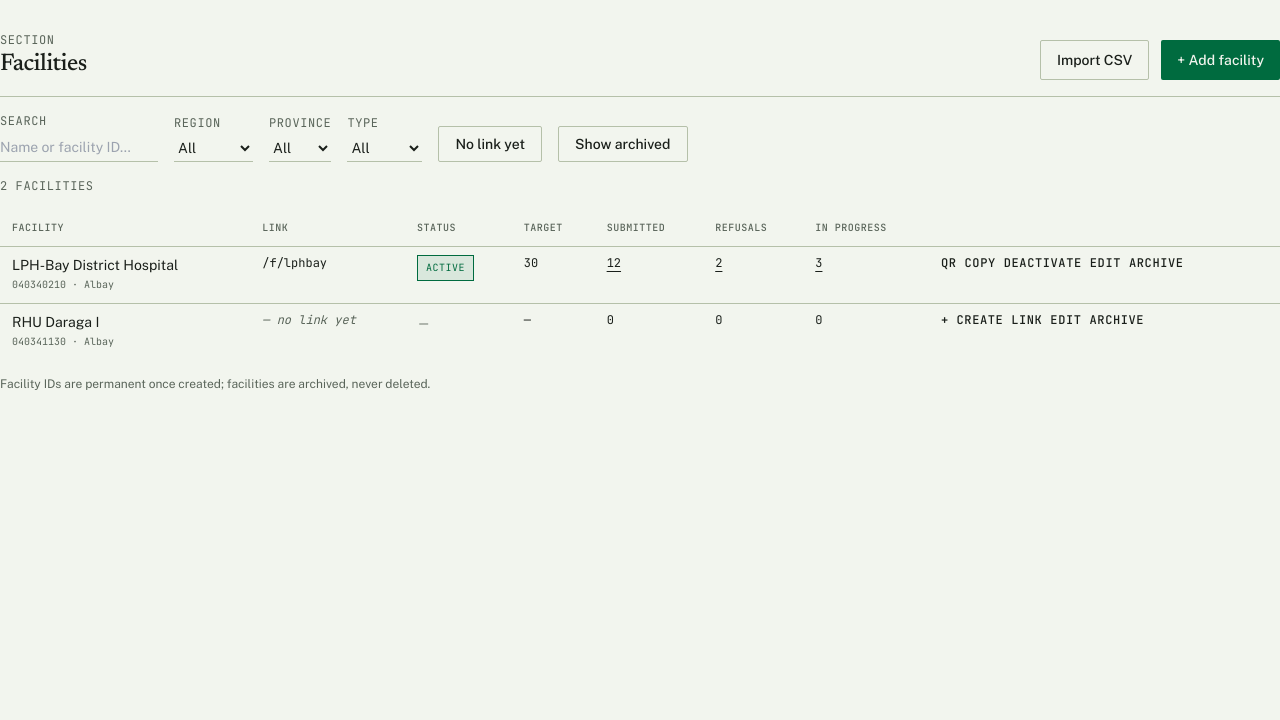
<FacilitiesPage /> › create button opens the dialog with the row facility read-only
Click the button with test id "facility-create-040341130".
click(992, 320)  # box [941,312,1042,328]
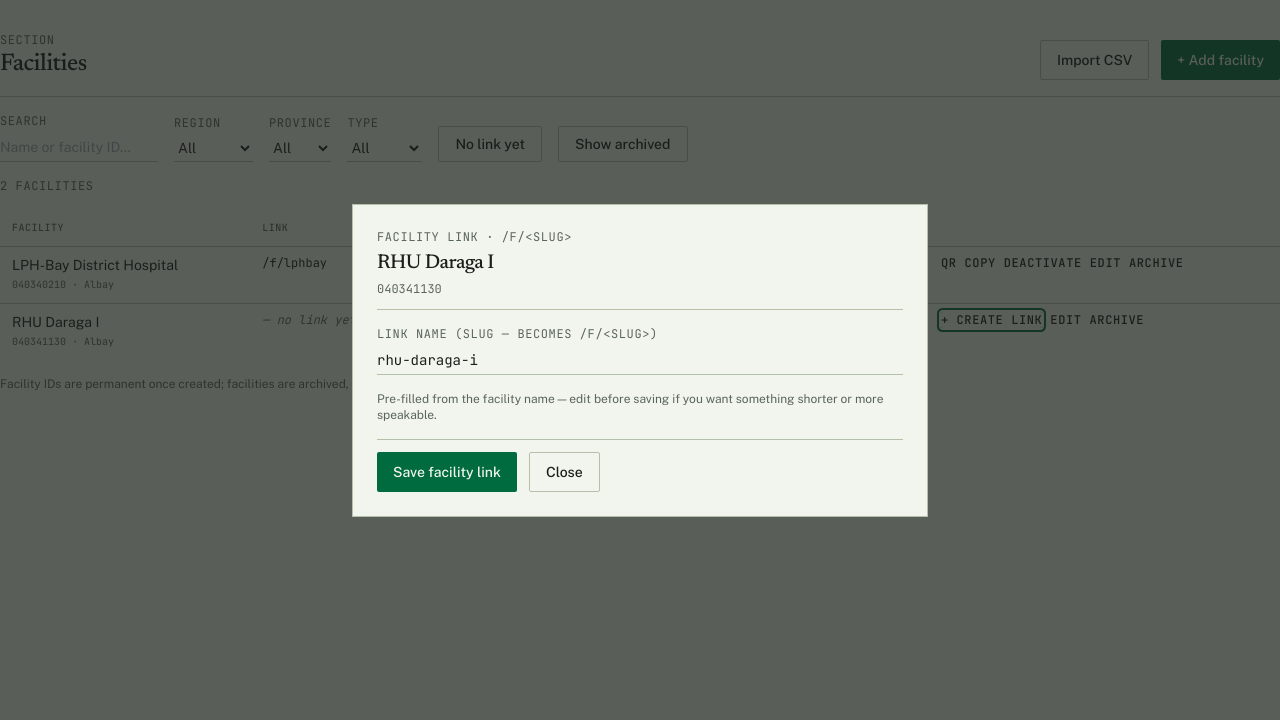
expect the text with test id "dialog-facility-id" reads "040341130": met, box [377,280,442,296]
expect the field with test id "dialog-slug-input" holds "rhu-daraga-i": met, box [377,346,903,374]
